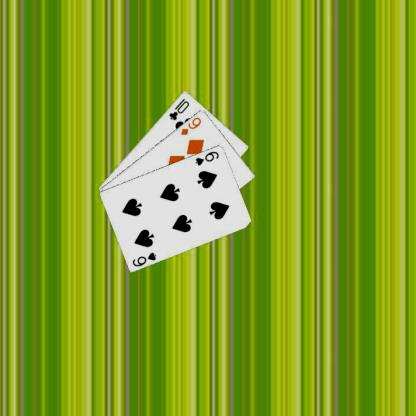10C: (166, 95, 190, 122)
6S: (130, 249, 158, 268), (193, 148, 220, 166)
9D: (178, 114, 202, 136)
